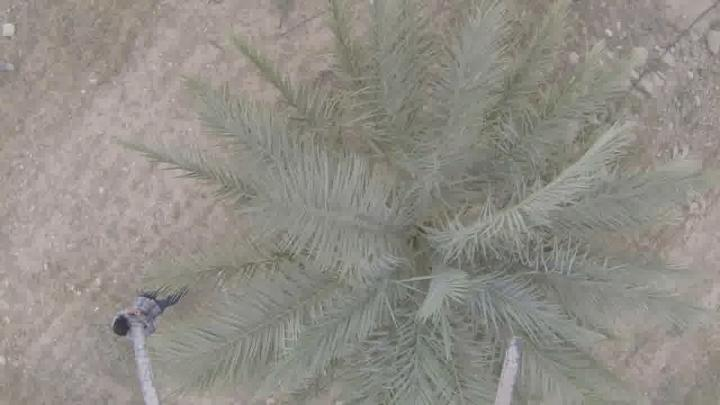Date-Palm-Crown: (267, 72, 589, 404)
